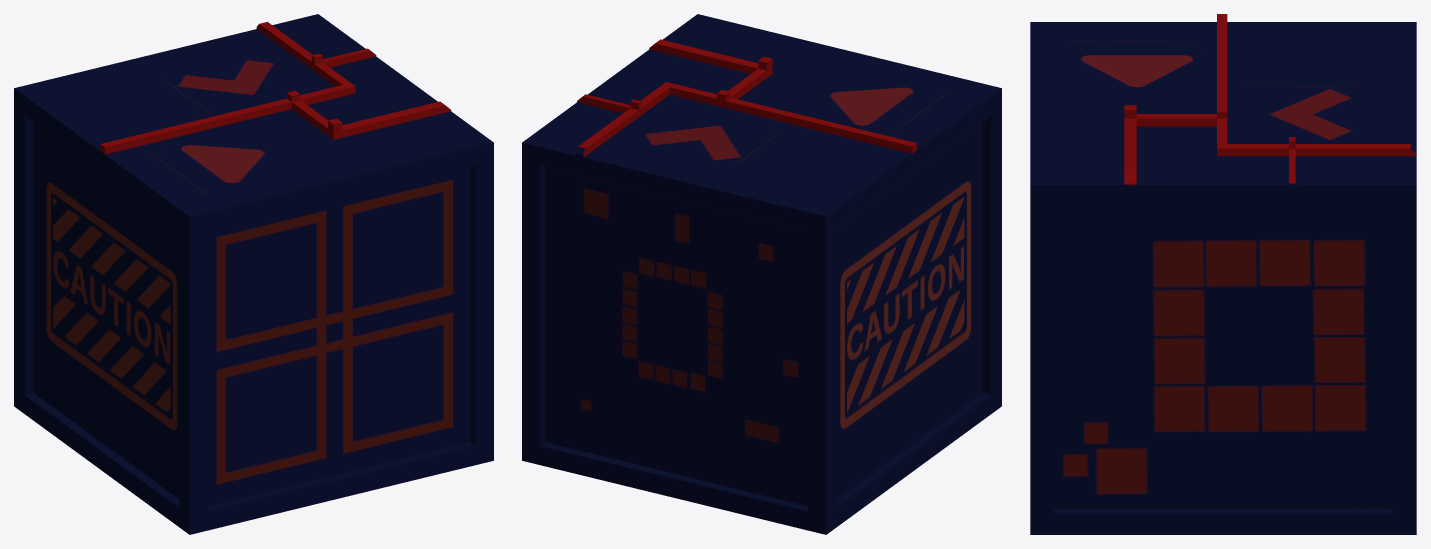
The model's file is skrzynia2.obj.
3 views of the same model, side by side, from view 1: azimuth 30°, elevation 25°; view 2: azimuth 150°, elevation 25°; view 3: azimuth 270°, elevation 25° (orthographic). The views are drawn at different scales.
Visible parts, largest first — view 1: skrzynia1; view 2: skrzynia1; view 3: skrzynia1.
Part boxes in pixels (x1,y1,x2,y2): skrzynia1: (14,14,493,534); skrzynia1: (522,14,1001,534); skrzynia1: (1030,14,1416,534).
Size of the model in its own units: 1 by 1.05 by 1.
Materials: 1 (1 with a texture image).
